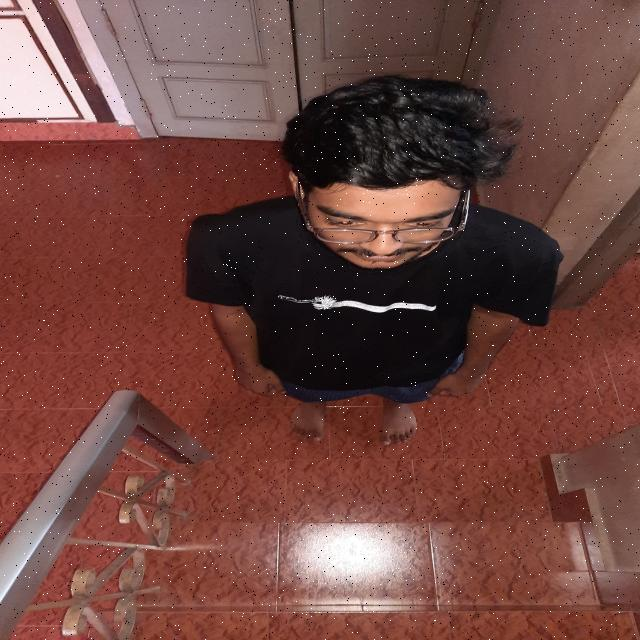humans: (172, 64, 571, 458)
